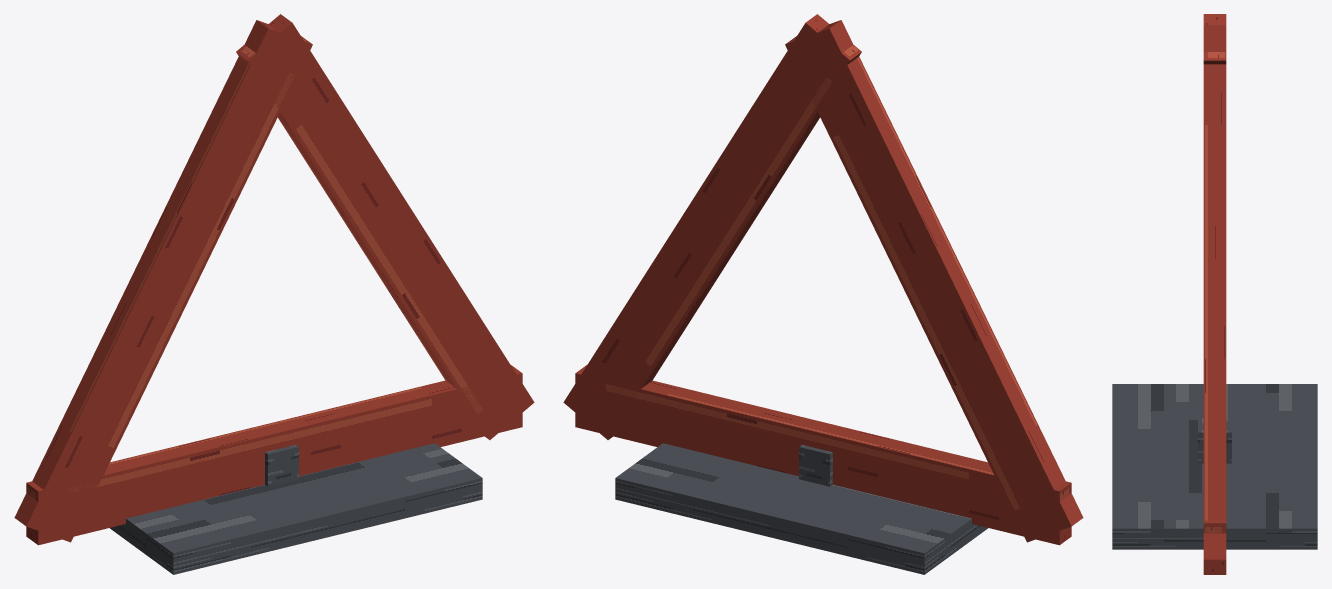
File: TRN_EmergencyTriangle.glb
3 views of the same model, side by side, from view 1: azimuth 30°, elevation 25°; view 2: azimuth 150°, elevation 25°; view 3: azimuth 270°, elevation 25° (orthographic). The views are drawn at different scales.
Parts seen in each view (by area): view 1: TRN_EmergencyTriangle_Mesh; view 2: TRN_EmergencyTriangle_Mesh; view 3: TRN_EmergencyTriangle_Mesh.
Part boxes in pixels (x1,y1,x2,y2): TRN_EmergencyTriangle_Mesh: (14,14,534,574); TRN_EmergencyTriangle_Mesh: (563,14,1083,574); TRN_EmergencyTriangle_Mesh: (1112,14,1317,574).
Size of what is drawn, in the model's own units: 0.4933 by 0.4422 by 0.18.
Materials: 1 (1 with a texture image).
